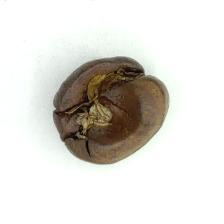NG: (68, 68, 140, 149)
